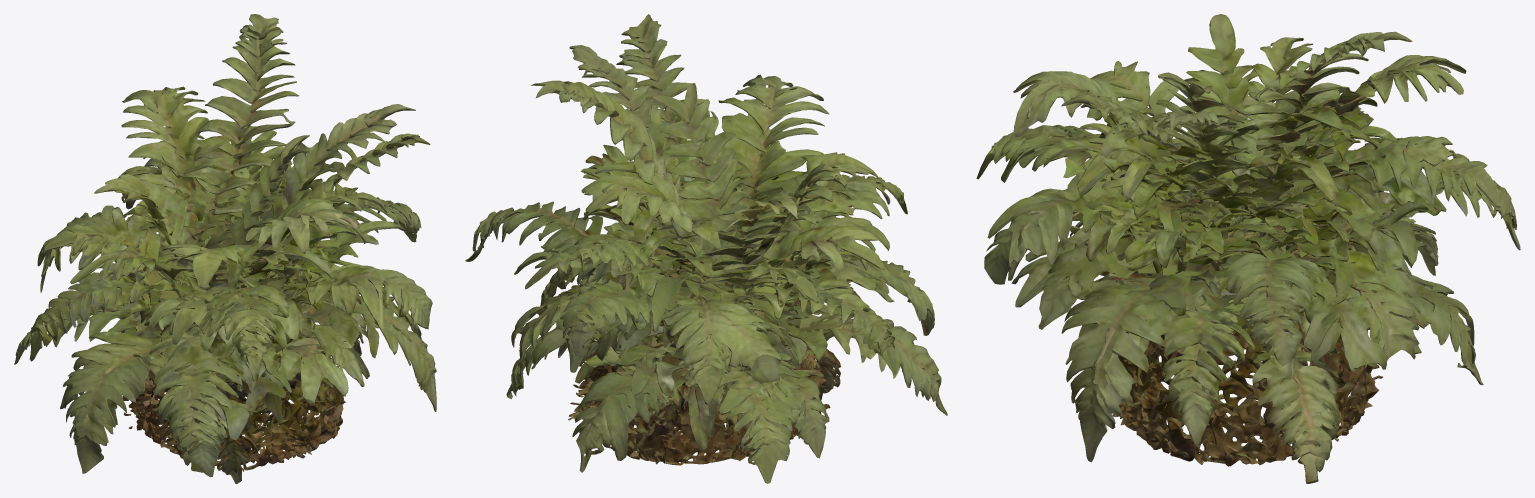
The model's file is Fern_01.fbx.
3 views of the same model, side by side, from view 1: azimuth 30°, elevation 25°; view 2: azimuth 150°, elevation 25°; view 3: azimuth 270°, elevation 25° (orthographic). The views are drawn at different scales.
Visible parts, largest first — view 1: geometry_0; view 2: geometry_0; view 3: geometry_0.
Boxes of the visible parts, x1,y1,x2,y2 form: geometry_0: (14,14,436,483); geometry_0: (465,14,947,483); geometry_0: (976,14,1520,483).
Bounding box in the file's own units: 60 × 50.59 × 58.1.
